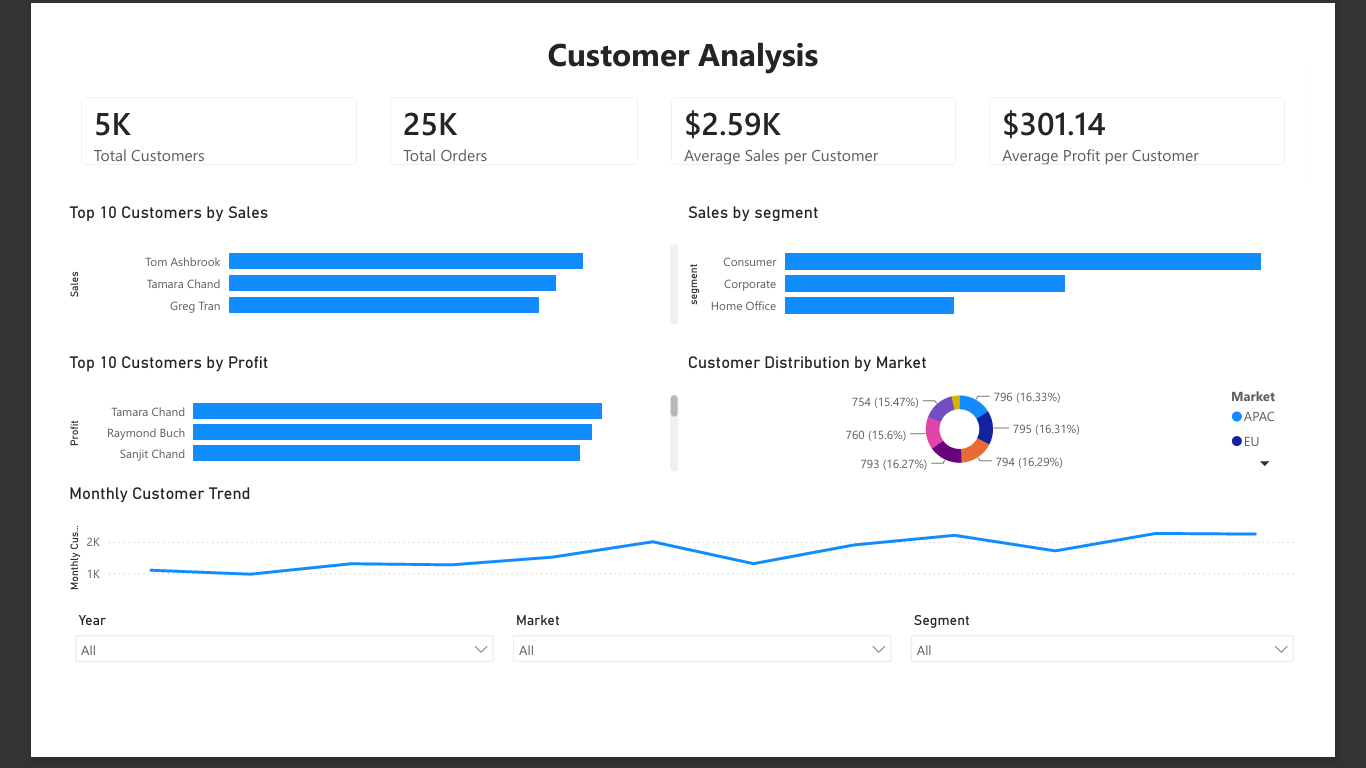

Layout of this report page (visuals, bound fields, positions):
{"tool":"powerbi","page":{"name":"Customer Analysis","canvas":[1280,720],"ordinal":2},"visuals":[{"type":"textbox","box":[9.6,0,1260.7,55.1],"z":0},{"type":"cardVisual","fields":{"Data":["superstore.Total Customers"]},"box":[9.6,55.1,315.2,103.2],"z":1000},{"type":"cardVisual","fields":{"Data":["superstore.Total Orders"]},"box":[324.8,55.1,286.3,103.2],"z":2000},{"type":"cardVisual","fields":{"Data":["superstore.Average Sales per Customer"]},"box":[611.1,55.1,323.4,103.2],"z":3000},{"type":"cardVisual","fields":{"Data":["superstore.Average Profit per Customer"]},"box":[934.5,55.1,335.8,103.2],"z":4000},{"type":"clusteredBarChart","fields":{"Category":["superstore.Segment"],"Y":["superstore.Total Sales"]},"box":[640,178.9,630.4,129.4],"z":5000},{"type":"clusteredBarChart","fields":{"Category":["superstore.Customer Name"],"Y":["superstore.Total Sales"]},"box":[9.6,178.9,630.4,129.4],"z":6000},{"type":"clusteredBarChart","fields":{"Category":["superstore.Customer Name"],"Y":["superstore.Total Profit"]},"box":[9.6,331.7,630.4,126.6],"z":7000},{"type":"donutChart","fields":{"Category":["superstore.Market"],"Y":["superstore.Total Customers"]},"box":[640,331.7,630.4,126.6],"z":8000},{"type":"lineChart","title":"Monthly Customer Trend ","fields":{"Category":["Calendar.Date.Variation.Date Hierarchy.Month"],"Y":["superstore.Total Customers"]},"box":[9.6,465.2,1260.7,114.2],"z":9000},{"type":"slicer","fields":{"Values":["Calendar.Year"]},"box":[11,592.2,445.9,126.6],"z":10000,"group":"g1"},{"type":"slicer","fields":{"Values":["superstore.Market"]},"box":[456.9,592.2,404.6,126.6],"z":11000,"group":"g1"},{"type":"slicer","fields":{"Values":["superstore.Segment"]},"box":[861.6,592.2,410.2,126.6],"z":12000,"group":"g1"},{"type":"group","id":"g1","title":"Group 1","box":[11,592.2,1260.7,126.6],"z":12001}]}

Visuals, with their boxes in screenshot pixels (x1, y1, x2, y2), scaled from the page's 1280x720 canvas onto the 1366x768 screenshot:
textbox: [x1=10, y1=0, x2=1356, y2=59]
cardVisual - superstore.Total Customers: [x1=10, y1=59, x2=347, y2=169]
cardVisual - superstore.Total Orders: [x1=347, y1=59, x2=652, y2=169]
cardVisual - superstore.Average Sales per Customer: [x1=652, y1=59, x2=997, y2=169]
cardVisual - superstore.Average Profit per Customer: [x1=997, y1=59, x2=1356, y2=169]
clusteredBarChart - superstore.Segment x superstore.Total Sales: [x1=683, y1=191, x2=1356, y2=329]
clusteredBarChart - superstore.Customer Name x superstore.Total Sales: [x1=10, y1=191, x2=683, y2=329]
clusteredBarChart - superstore.Customer Name x superstore.Total Profit: [x1=10, y1=354, x2=683, y2=489]
donutChart - superstore.Market x superstore.Total Customers: [x1=683, y1=354, x2=1356, y2=489]
"Monthly Customer Trend " lineChart: [x1=10, y1=496, x2=1356, y2=618]
slicer - Calendar.Year: [x1=12, y1=632, x2=488, y2=767]
slicer - superstore.Market: [x1=488, y1=632, x2=919, y2=767]
slicer - superstore.Segment: [x1=919, y1=632, x2=1357, y2=767]
"Group 1" group: [x1=12, y1=632, x2=1357, y2=767]
